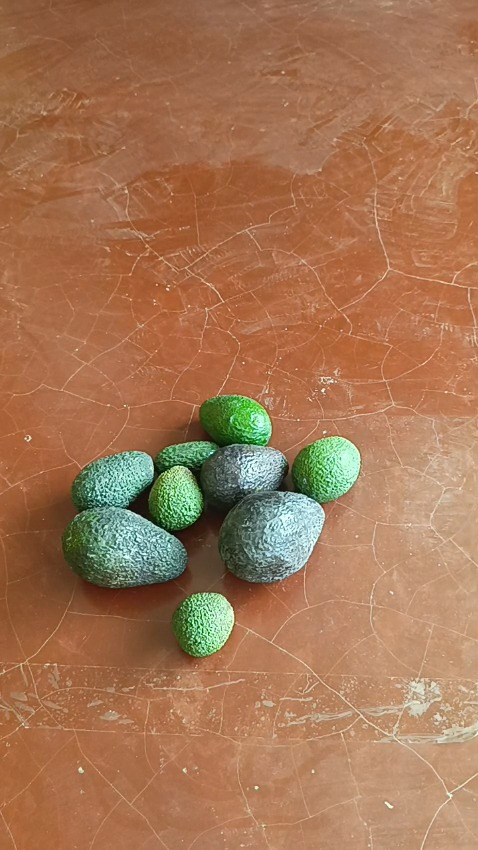Primera: (61, 506, 189, 588), (218, 491, 326, 583), (199, 442, 289, 510)
Segunda: (69, 450, 155, 512), (290, 435, 363, 502), (199, 394, 271, 446)
Tercera: (169, 589, 234, 658), (146, 463, 205, 531), (152, 440, 218, 476)
